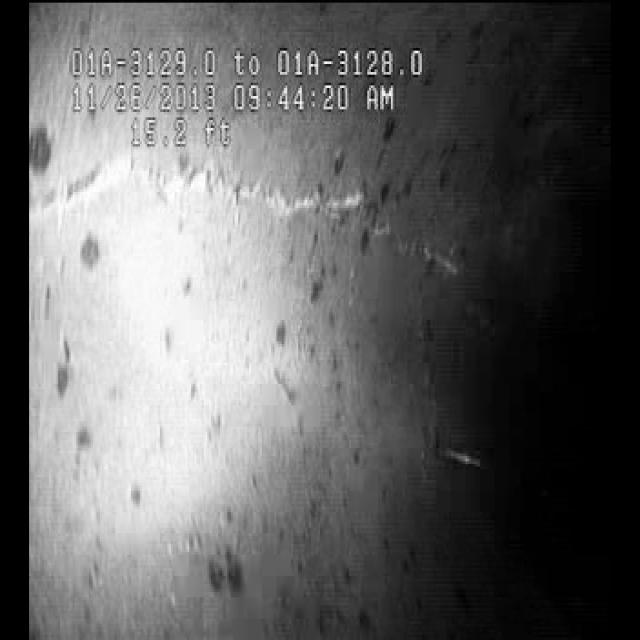Crack: (172, 154, 448, 268)
